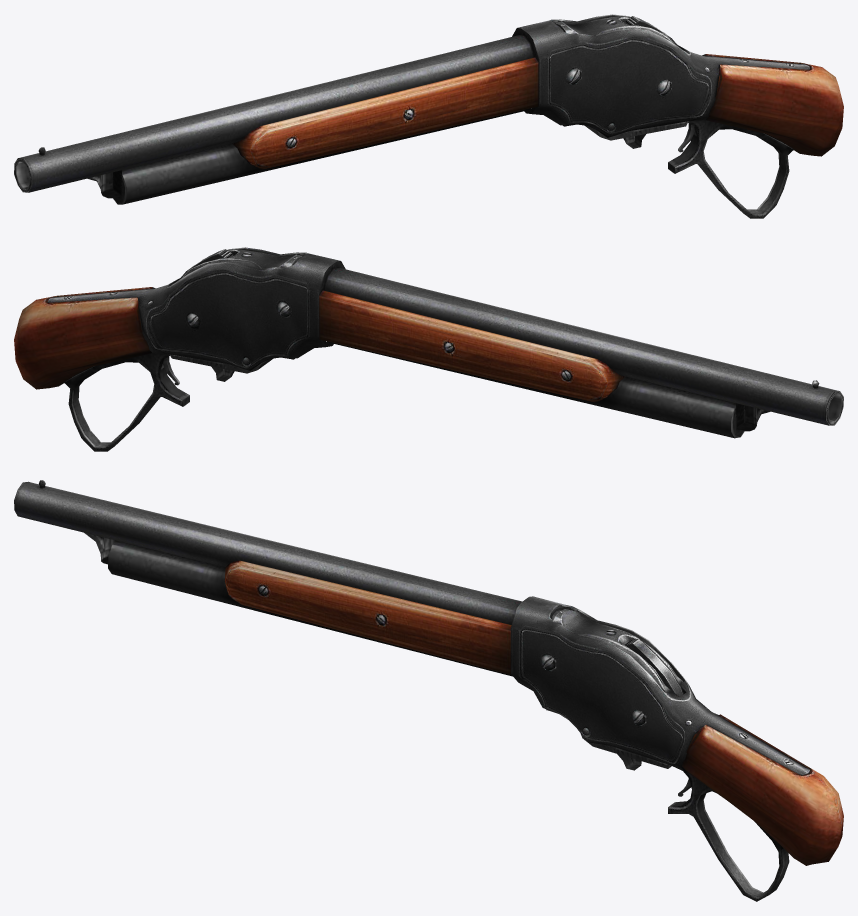
3 renders of one model, top to bottom at view 1: azimuth 30°, elevation 25°; view 2: azimuth 150°, elevation 25°; view 3: azimuth 330°, elevation 25°, orthographic.
Visible parts, largest first — view 1: M1887_obj_cleaner_materialmerger_gles; view 2: M1887_obj_cleaner_materialmerger_gles; view 3: M1887_obj_cleaner_materialmerger_gles.
Boxes of the visible parts, box(x1,y1,x2,y2) form: M1887_obj_cleaner_materialmerger_gles: box(14, 14, 843, 218); M1887_obj_cleaner_materialmerger_gles: box(14, 247, 843, 451); M1887_obj_cleaner_materialmerger_gles: box(14, 480, 843, 901).
Bounding box in the file's own units: 45.51 × 12.94 × 2.89.
Materials: 1 (1 with a texture image).
